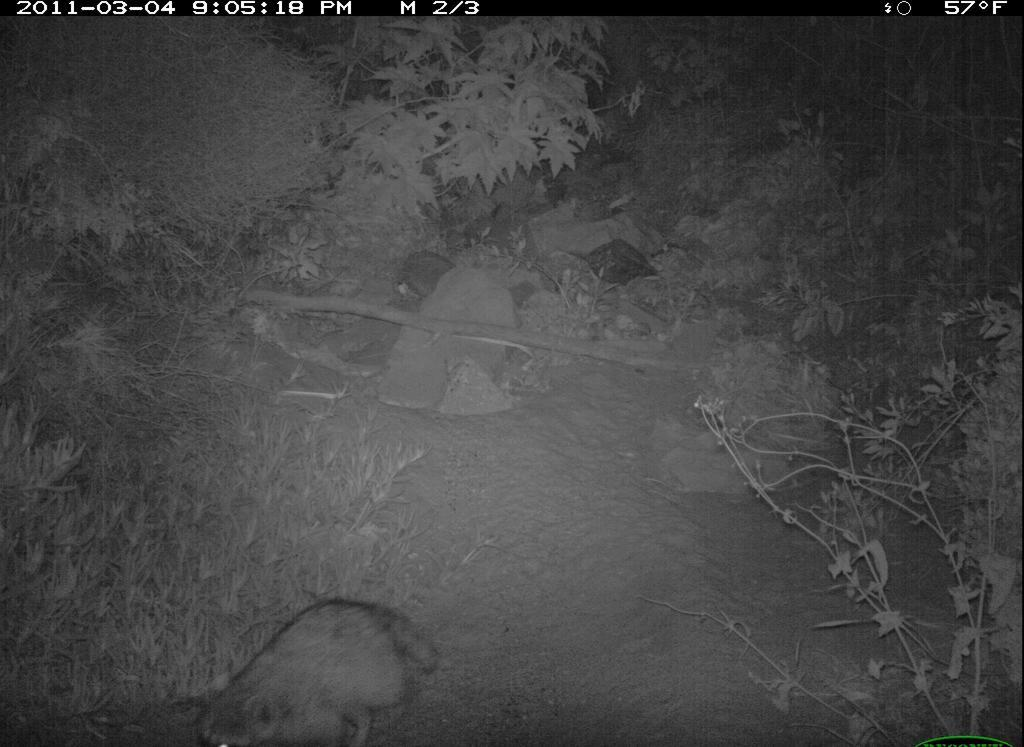raccoon: (185, 587, 449, 745)
